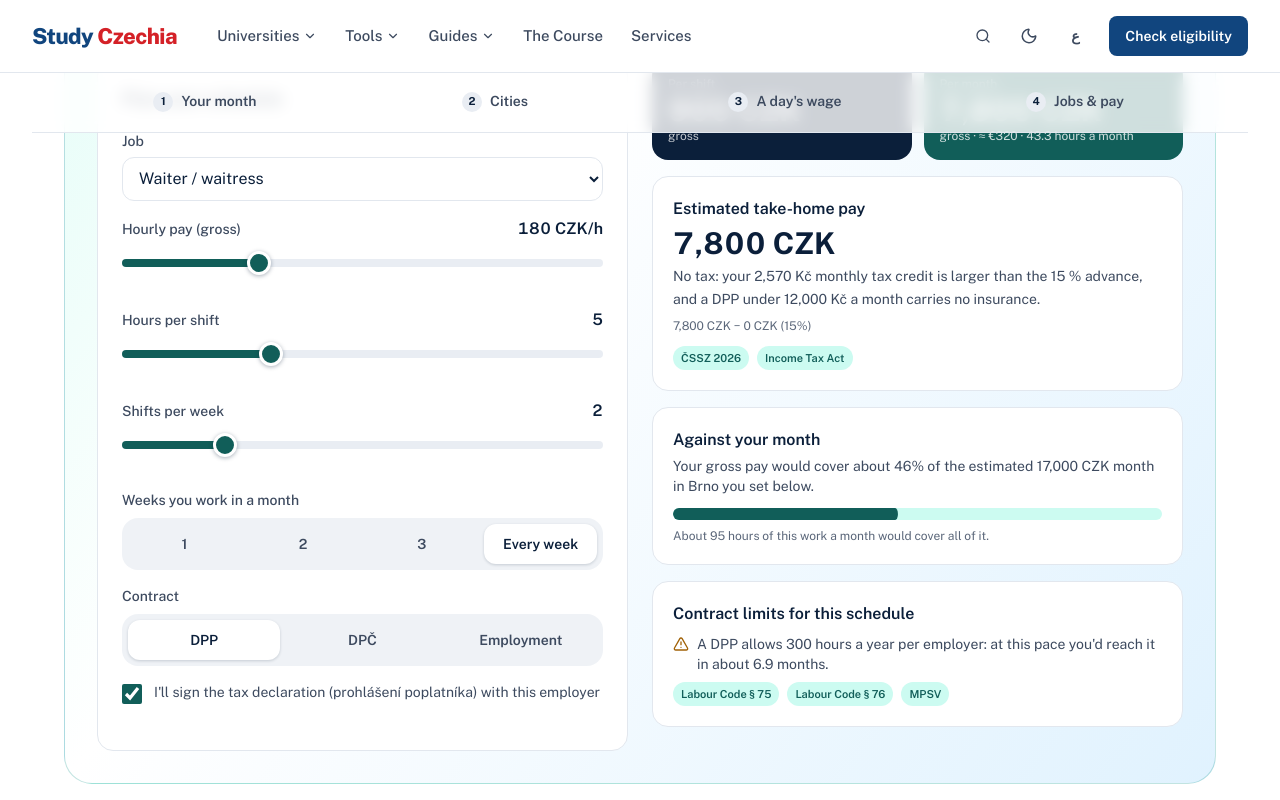
cost of living page › net pay: estimated for a small DPP, refused above the threshold
(page scrolled)
Check: the text "No tax: your 2,570 Kč monthly tax credit" is shown, box [673, 268, 1142, 307]
Set the slider labelled "Shifts per week" to "5" at x=502, y=445, box [122, 423, 603, 467]
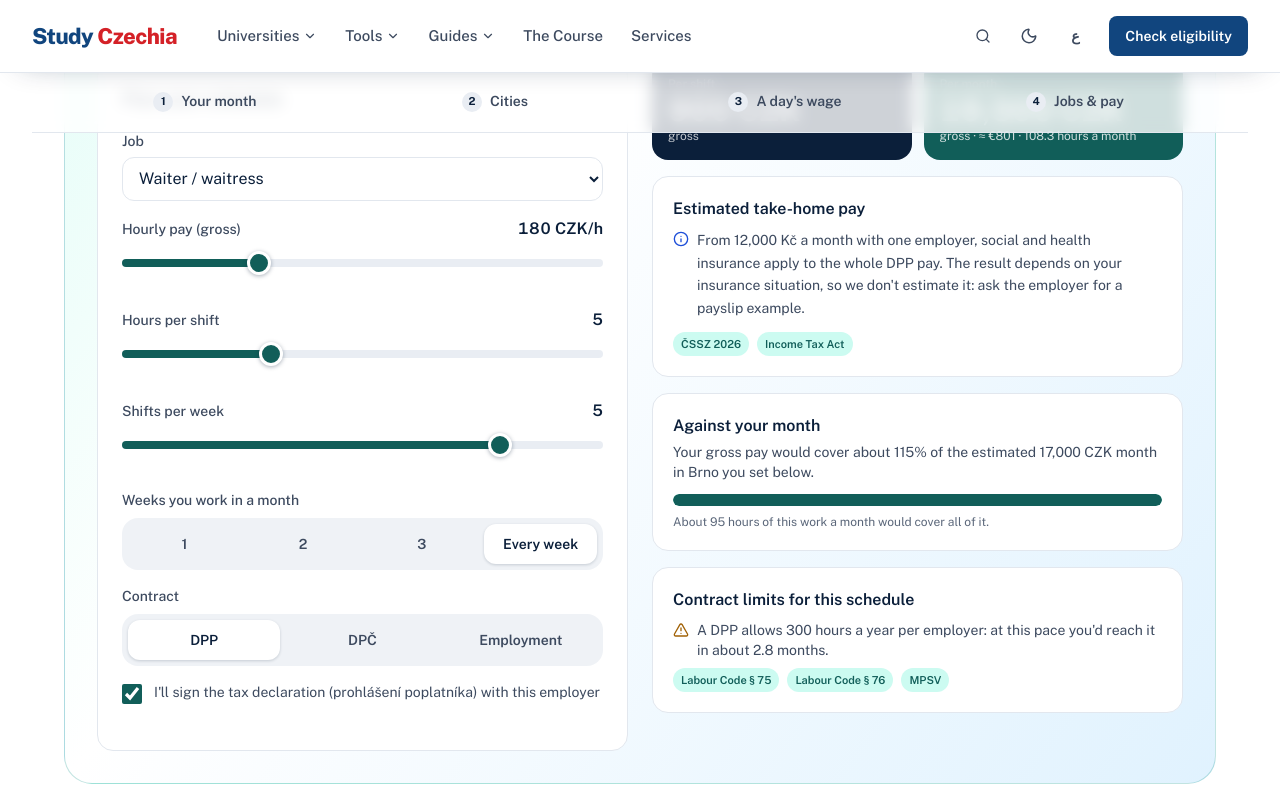
Check: the text "social and health insurance apply to the whole DPP pay" is shown, box [697, 232, 1122, 316]
